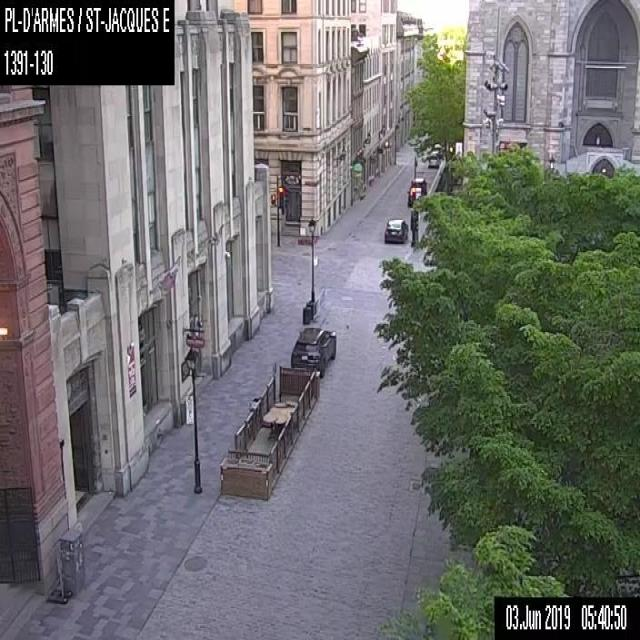vehicle: (289, 325, 336, 378), (383, 217, 408, 243), (407, 176, 426, 206), (427, 156, 439, 167)
